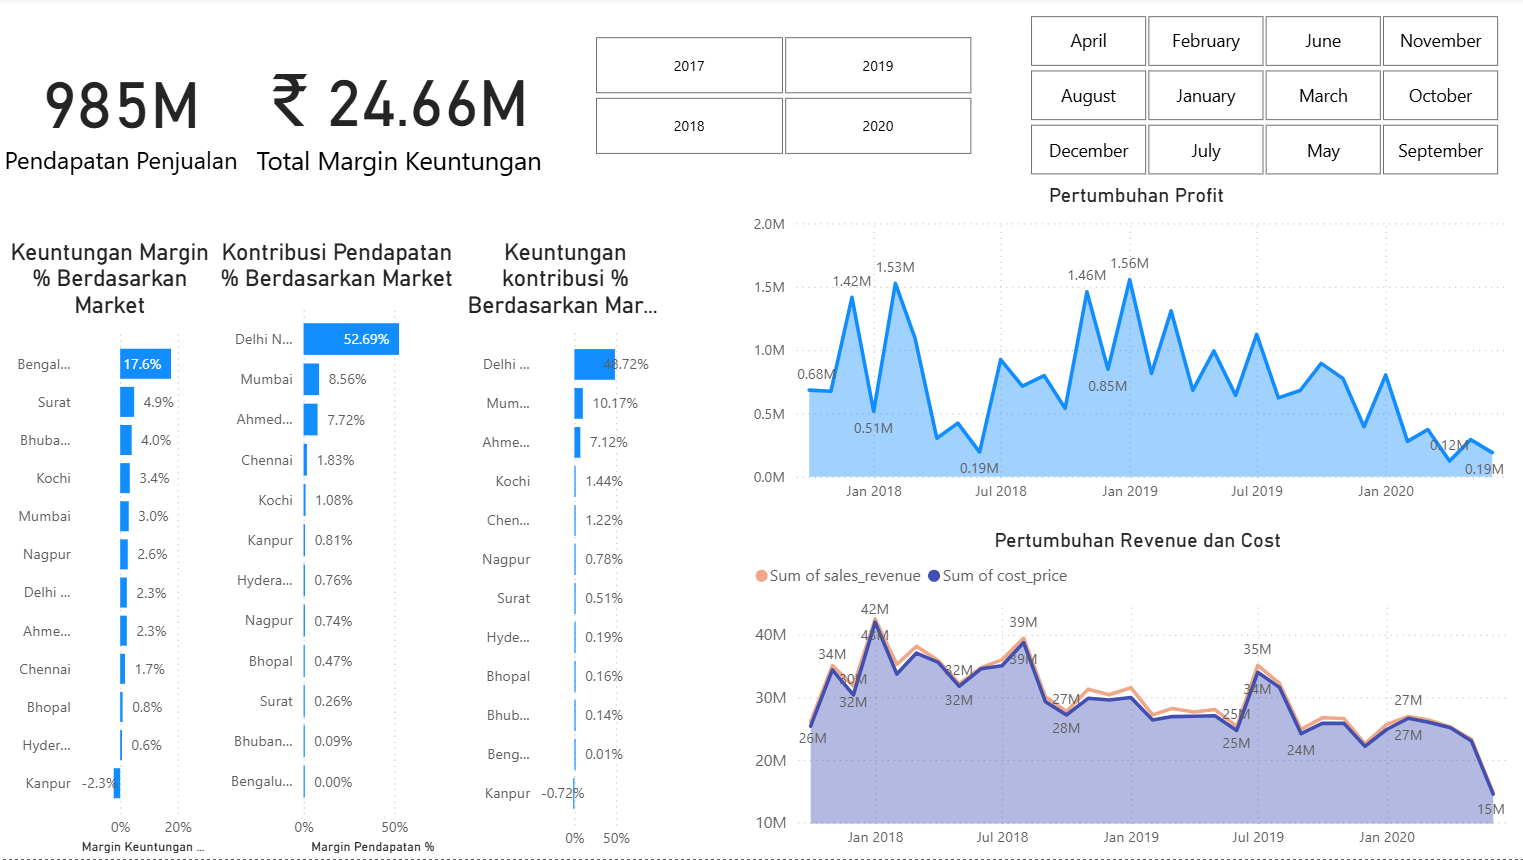

Layout of this report page (visuals, bound fields, positions):
{"tool":"powerbi","page":{"name":"Analisis_1","canvas":[1280,720],"ordinal":1},"visuals":[{"type":"card","fields":{"Values":["KeyProduct.Measure"]},"box":[0,0,209.8,192.8],"z":0},{"type":"card","fields":{"Values":["KeyProduct.Total Margin Keuntungan"]},"box":[209.4,0,255.9,192.3],"z":1000},{"type":"barChart","title":"Keuntungan Margin % Berdasarkan Market","fields":{"Y":["KeyProduct.Margin Keuntungan %"],"Category":["sales markets.markets_name"]},"box":[0,201.7,191.7,518.3],"z":2000},{"type":"barChart","title":"Keuntungan kontribusi % Berdasarkan Market","fields":{"Y":["KeyProduct.Kontribusi Margin Keuntungan %"],"Category":["sales markets.markets_name"]},"box":[390,201.7,173.3,518.3],"z":3000},{"type":"slicer","fields":{"Values":["sales date.month_name"]},"box":[840,8.3,440,146.7],"z":4000},{"type":"slicer","fields":{"Values":["sales date.year"]},"box":[476.7,26.7,363.3,111.7],"z":5000},{"type":"lineChart","title":"Pertumbuhan Profit","fields":{"Y":["Sum(sales transactions.profit_margin)"],"Category":["sales date.cy_date.Variation.Date Hierarchy.Year","sales date.cy_date.Variation.Date Hierarchy.Quarter","sales date.cy_date.Variation.Date Hierarchy.Month","sales date.cy_date.Variation.Date Hierarchy.Day"]},"box":[628.3,155,651.7,275],"z":6000},{"type":"barChart","title":"Kontribusi Pendapatan % Berdasarkan Market","fields":{"Category":["sales markets.markets_name"],"Y":["KeyProduct.Margin Pendapatan %"]},"box":[180,201.7,210,518.3],"z":7000},{"type":"lineChart","title":"Pertumbuhan Revenue dan Cost","fields":{"Category":["sales date.cy_date.Variation.Date Hierarchy.Year","sales date.cy_date.Variation.Date Hierarchy.Quarter","sales date.cy_date.Variation.Date Hierarchy.Month","sales date.cy_date.Variation.Date Hierarchy.Day"],"Y":["Sum(sales transactions.sales_revenue)","Sum(sales transactions.cost_price)"]},"box":[628.4,443.7,651.1,275.6],"z":8000}]}

Visuals, with their boxes in screenshot pixels (x1, y1, x2, y2), scaled from the page's 1280x720 canvas onto the 1523x860 screenshot:
card - KeyProduct.Measure: x1=0 y1=0 x2=250 y2=230
card - KeyProduct.Total Margin Keuntungan: x1=249 y1=0 x2=554 y2=230
"Keuntungan Margin % Berdasarkan Market" barChart: x1=0 y1=241 x2=228 y2=859
"Keuntungan kontribusi % Berdasarkan Market" barChart: x1=464 y1=241 x2=670 y2=859
slicer - sales date.month_name: x1=999 y1=10 x2=1522 y2=185
slicer - sales date.year: x1=567 y1=32 x2=999 y2=165
"Pertumbuhan Profit" lineChart: x1=748 y1=185 x2=1522 y2=514
"Kontribusi Pendapatan % Berdasarkan Market" barChart: x1=214 y1=241 x2=464 y2=859
"Pertumbuhan Revenue dan Cost" lineChart: x1=748 y1=530 x2=1522 y2=859
